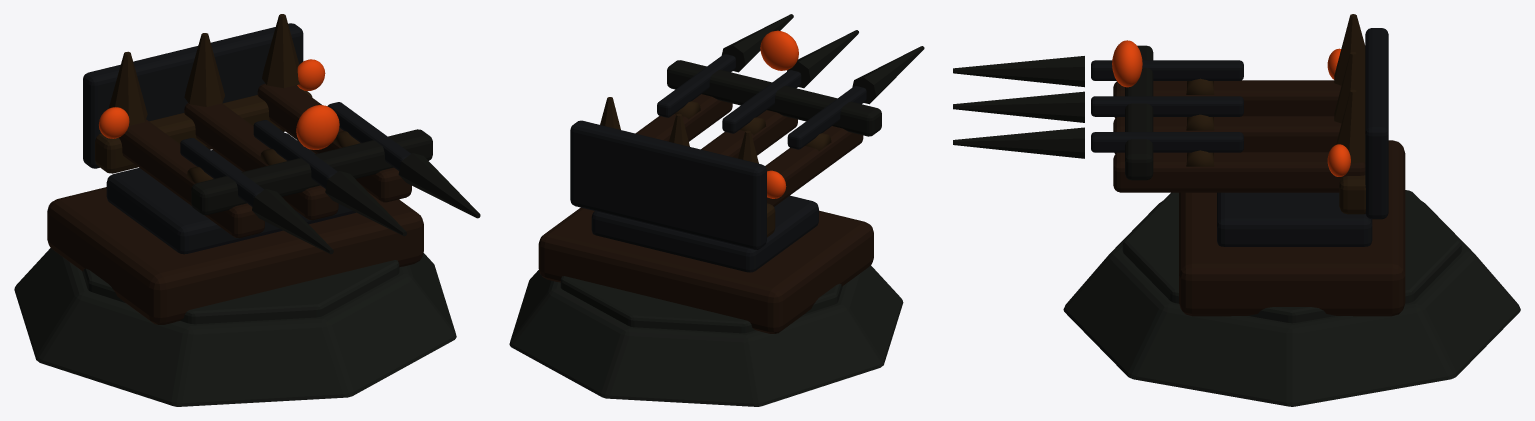
The model's file is TowerKing3.obj.
3 views of the same model, side by side, from view 1: azimuth 30°, elevation 25°; view 2: azimuth 150°, elevation 25°; view 3: azimuth 270°, elevation 25° (orthographic). The views are drawn at different scales.
Visible parts, largest first — view 1: polished_stone_socket_lower_course, royal_oak_deck, iron_royal_mantle, polished_stone_socket_upper_course, iron_royal_turntable, royal_bow_stock, royal_bow_stock.001, royal_bow_stock.002, bronze_crown_rail, royal_bow_limb, royal_bolt, royal_bolt.002 (+12 smaller); view 2: polished_stone_socket_lower_course, royal_oak_deck, iron_royal_mantle, iron_royal_turntable, polished_stone_socket_upper_course, royal_bow_stock, royal_bow_limb, royal_bow_stock.001, royal_bow_stock.002, royal_iron_guide, royal_iron_guide.001, royal_iron_guide.002 (+10 smaller); view 3: polished_stone_socket_lower_course, royal_oak_deck, polished_stone_socket_upper_course, royal_bow_stock.002, iron_royal_turntable, royal_bow_stock, royal_bow_stock.001, iron_royal_mantle, royal_iron_guide.001, royal_iron_guide.002, royal_bolt.002, royal_bolt.001 (+10 smaller).
Boxes of the visible parts, <box> form: polished_stone_socket_lower_course: <box>14,248,456,406</box>; royal_oak_deck: <box>47,140,423,324</box>; iron_royal_mantle: <box>83,23,303,168</box>; polished_stone_socket_upper_course: <box>82,260,399,324</box>; iron_royal_turntable: <box>106,133,355,254</box>; royal_bow_stock: <box>119,119,264,238</box>; royal_bow_stock.001: <box>184,103,338,220</box>; royal_bow_stock.002: <box>257,83,411,202</box>; bronze_crown_rail: <box>95,85,312,173</box>; royal_bow_limb: <box>191,165,282,215</box>; royal_bolt: <box>252,189,333,254</box>; royal_bolt.002: <box>398,153,480,218</box>; polished_stone_socket_lower_course: <box>509,265,903,406</box>; royal_oak_deck: <box>538,207,873,333</box>; iron_royal_mantle: <box>570,120,766,249</box>; iron_royal_turntable: <box>591,195,818,272</box>; polished_stone_socket_upper_course: <box>560,276,842,333</box>; royal_bow_stock: <box>765,126,863,206</box>; royal_bow_limb: <box>800,92,881,136</box>; royal_bow_stock.001: <box>701,110,797,158</box>; royal_bow_stock.002: <box>635,94,732,141</box>; royal_iron_guide: <box>787,86,866,149</box>; royal_iron_guide.001: <box>722,70,801,133</box>; royal_iron_guide.002: <box>657,54,735,117</box>; polished_stone_socket_lower_course: <box>1063,200,1520,406</box>; royal_oak_deck: <box>1179,140,1405,316</box>; polished_stone_socket_upper_course: <box>1122,190,1461,323</box>; royal_bow_stock.002: <box>1113,152,1365,192</box>; iron_royal_turntable: <box>1217,192,1372,246</box>; royal_bow_stock: <box>1113,80,1341,118</box>; royal_bow_stock.001: <box>1113,116,1341,153</box>; iron_royal_mantle: <box>1365,28,1388,219</box>; royal_iron_guide.001: <box>1091,96,1243,116</box>; royal_iron_guide.002: <box>1091,132,1243,152</box>; royal_bolt.002: <box>953,127,1084,158</box>; royal_bolt.001: <box>953,91,1084,122</box>.
Bounding box in the file's own units: 1.94 × 1.26 × 2.41.
